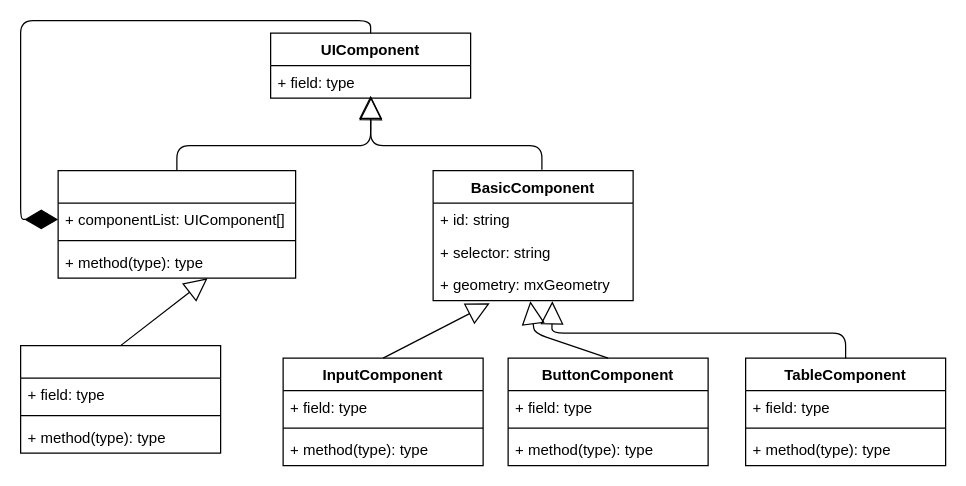
This 966x486 diagram has some shape labels left out. Here are the shapes that lost their labels. From the top down, the box of each, then its label:
(57, 169, 296, 278): CompositeComponent
(19, 344, 221, 453): FromComponent
